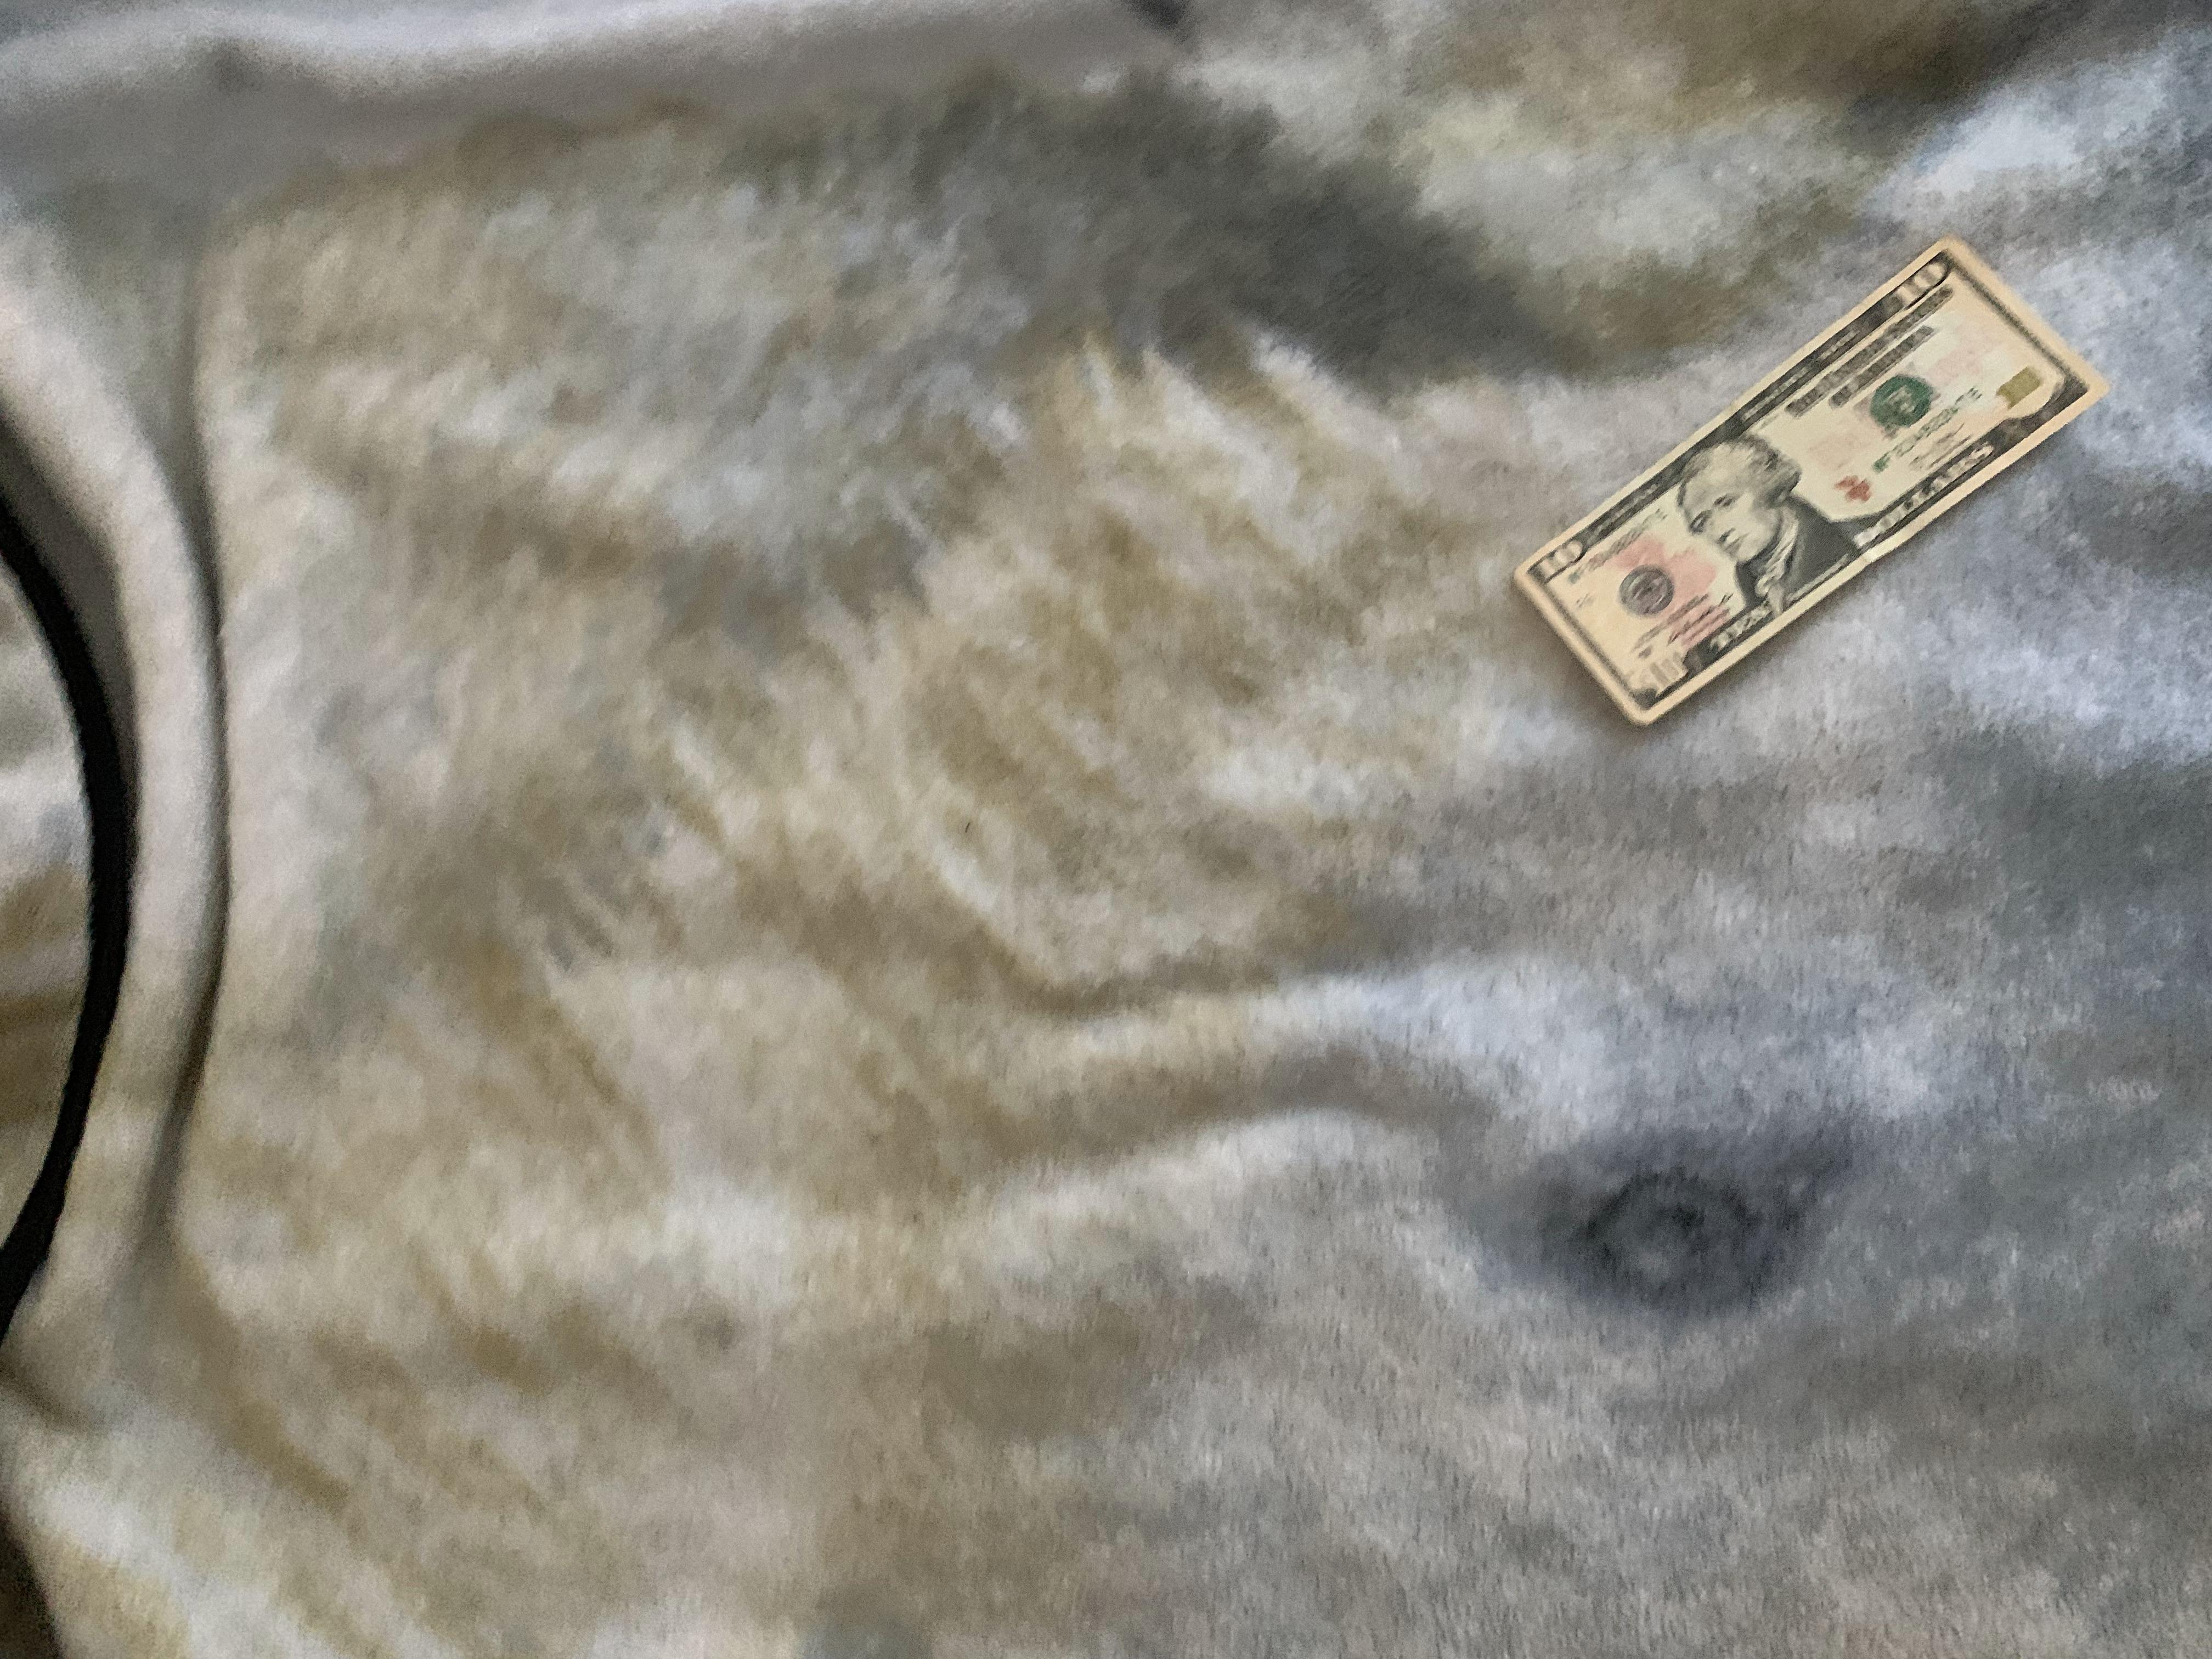TenBill: (1510, 223, 2104, 728)
